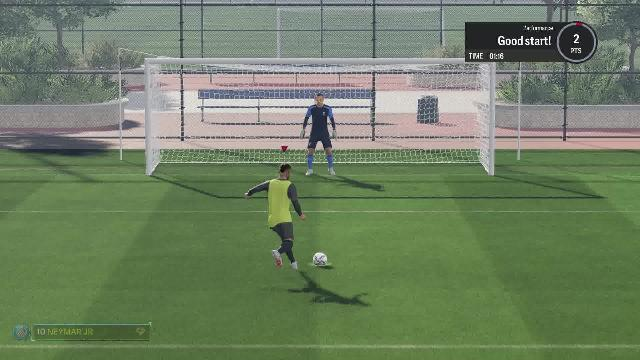football: (312, 250, 330, 264)
goal-bottom-left: (152, 129, 258, 177)
goal-bottom-right: (377, 122, 485, 176)
goal-middle-down: (262, 123, 372, 177)
goal-middle-up: (262, 64, 372, 122)
goal-top-left: (152, 65, 258, 127)
goal-top-right: (372, 66, 483, 121)
goalkeeper: (300, 92, 344, 178)
player: (248, 160, 308, 280)
